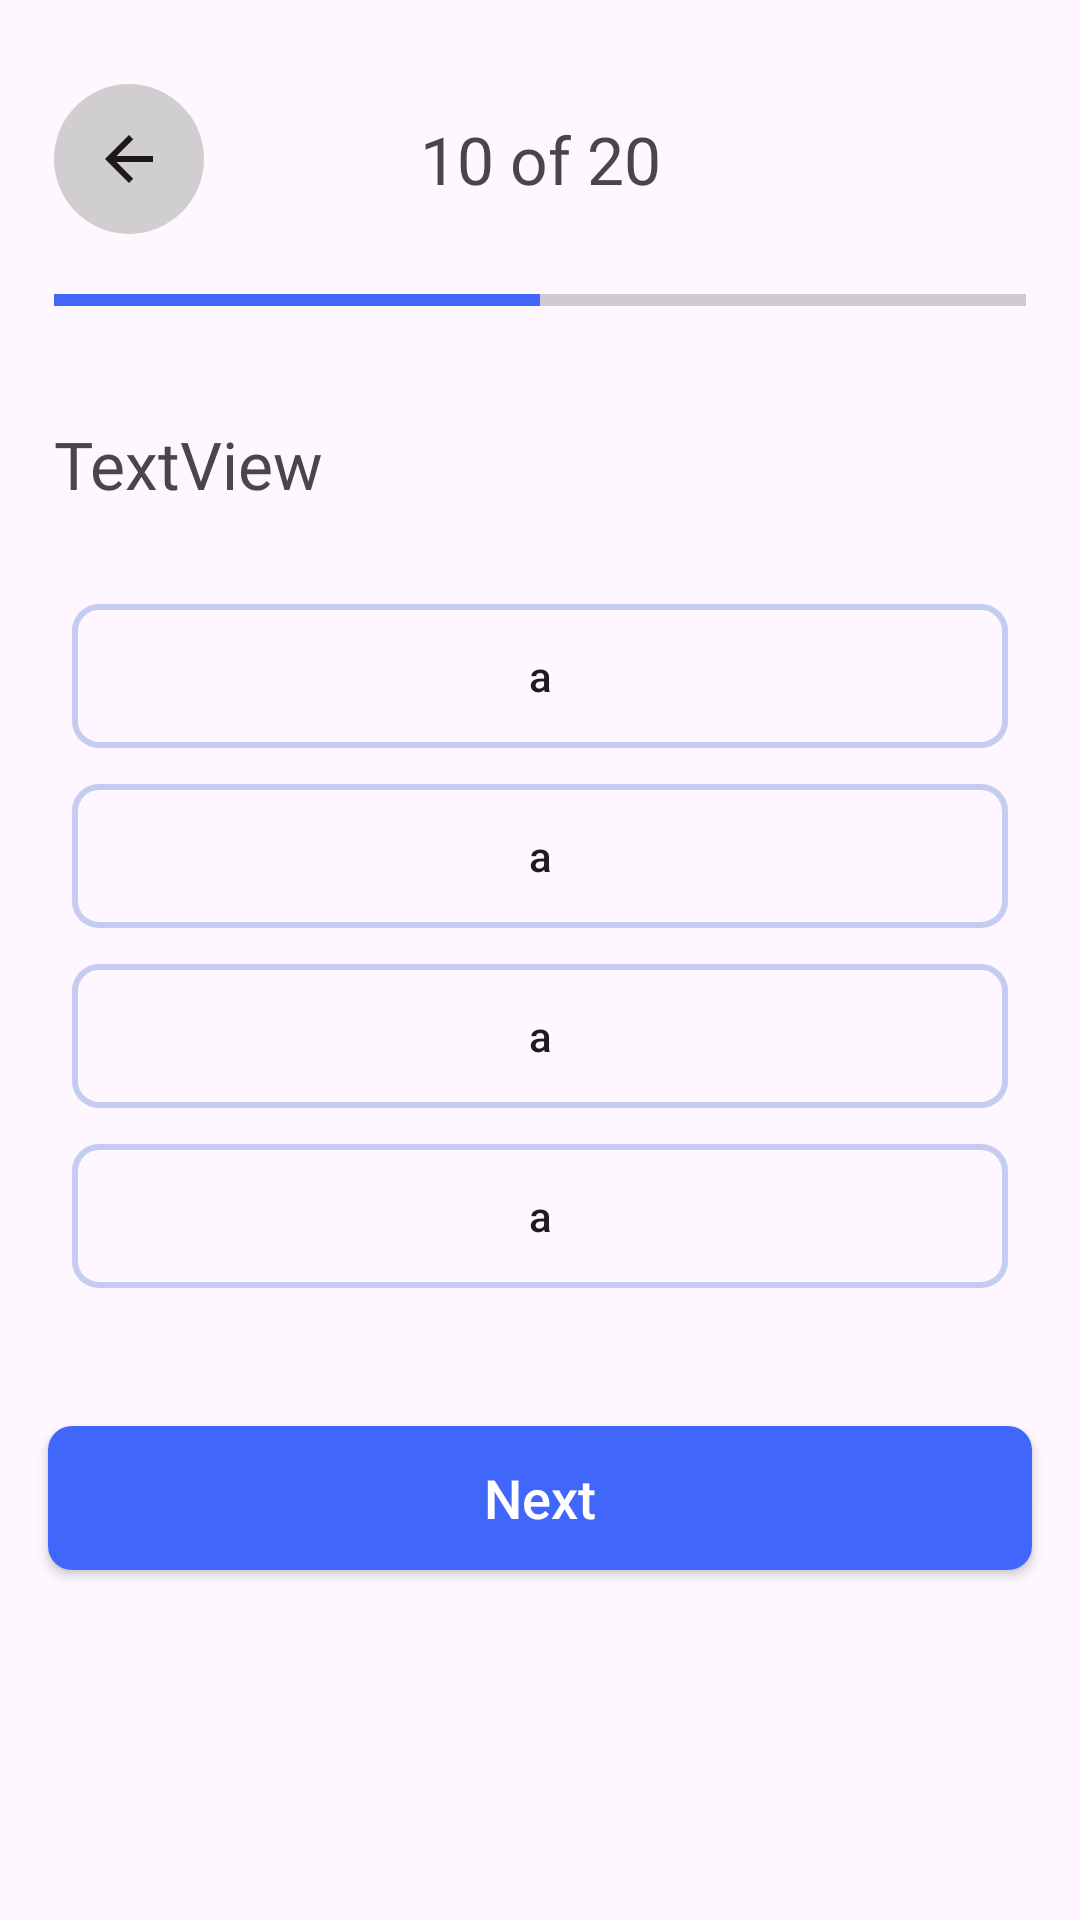

Named icons in this screenshot (1080*1920) and their bounding boxes, (x1, y1, x2, y2):
back arrow button: (54, 84, 204, 234)
